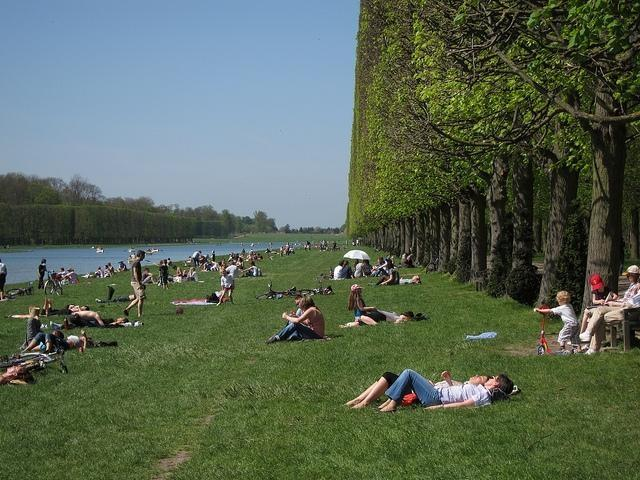bicycle: (0, 338, 69, 374), (256, 282, 316, 298), (44, 268, 64, 296), (312, 280, 332, 295), (8, 287, 28, 296)
